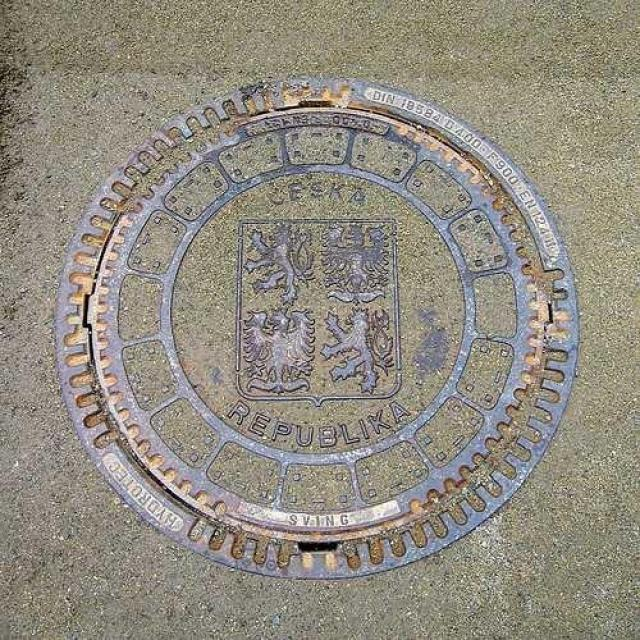manhole: (52, 77, 581, 585)
